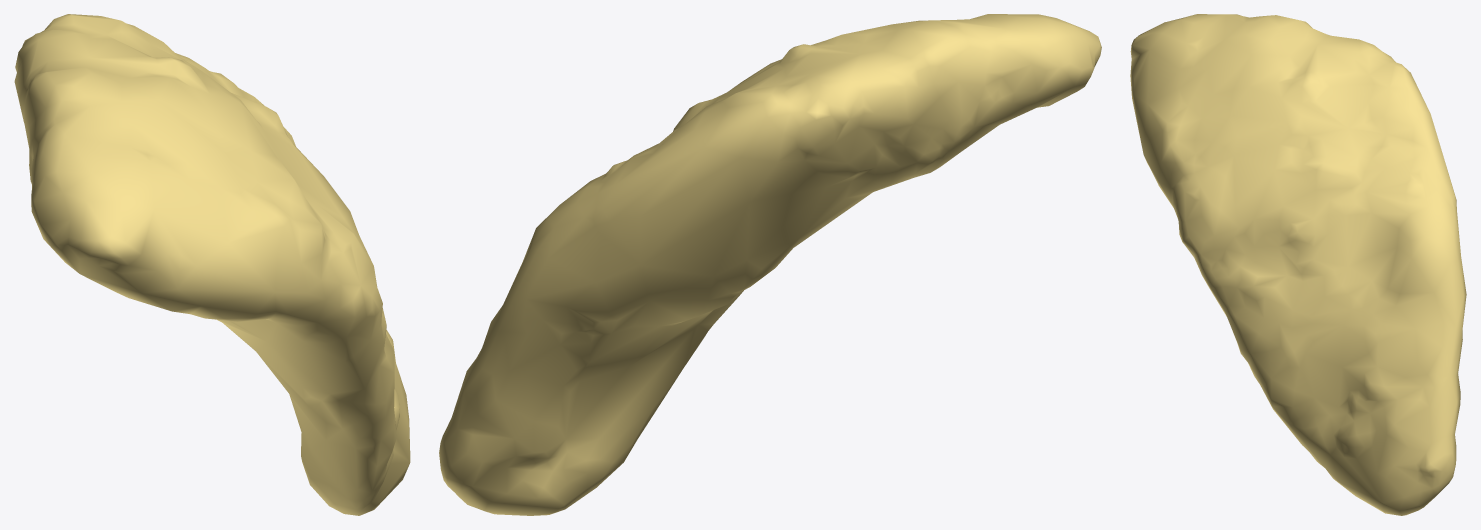
3 views of the same model, side by side, from view 1: azimuth 30°, elevation 25°; view 2: azimuth 150°, elevation 25°; view 3: azimuth 270°, elevation 25° (orthographic). The views are drawn at different scales.
Parts seen in each view (by area): view 1: ZA_d33dd899a3a9cc75; view 2: ZA_d33dd899a3a9cc75; view 3: ZA_d33dd899a3a9cc75.
Boxes of the visible parts, left/top/right/bottom form: ZA_d33dd899a3a9cc75: left=14, top=14, right=410, bottom=515; ZA_d33dd899a3a9cc75: left=439, top=14, right=1101, bottom=515; ZA_d33dd899a3a9cc75: left=1130, top=14, right=1466, bottom=515.
Bounding box in the file's own units: 0.018 × 0.0184 × 0.0151.
